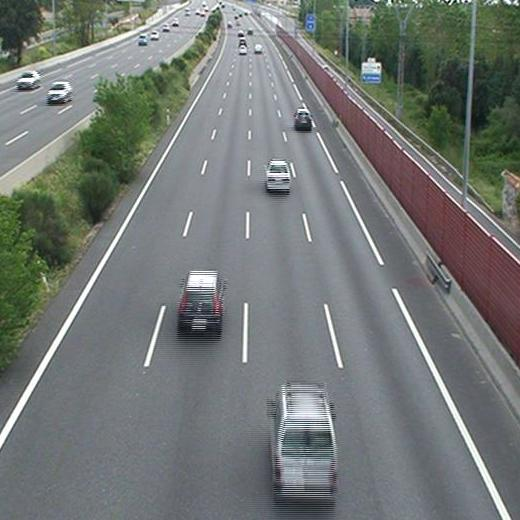car: (180, 273, 222, 328), (266, 161, 290, 191), (293, 110, 311, 126), (239, 44, 247, 55)
van: (271, 385, 338, 498)
